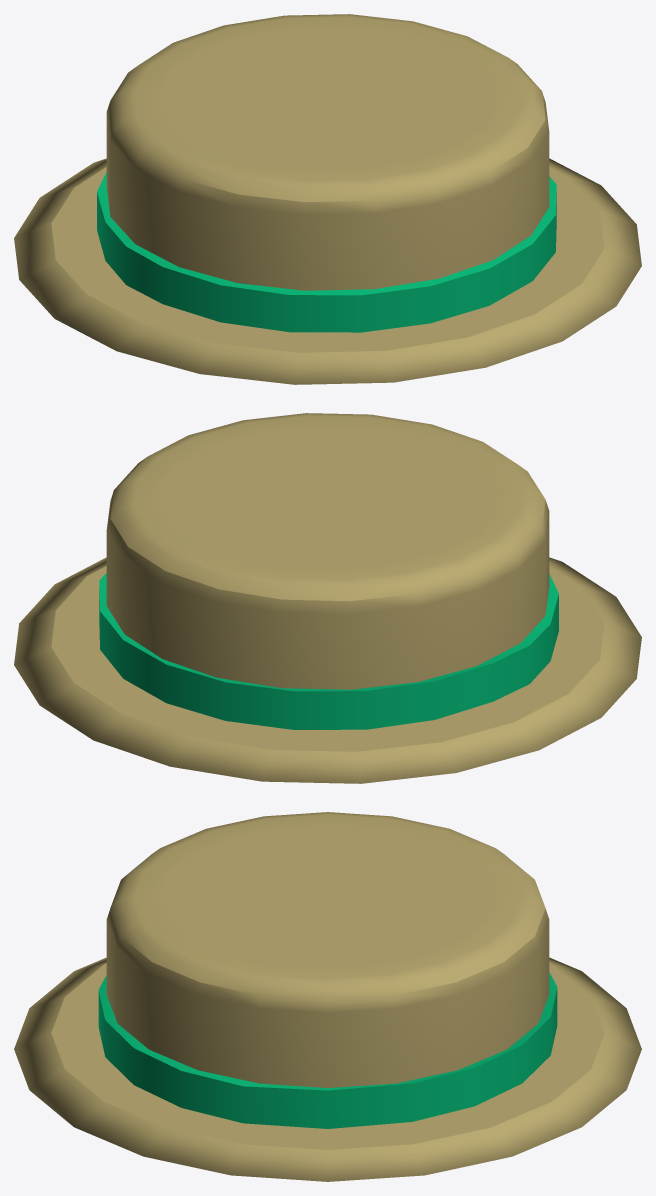
File: flathat.fbx
The picture shows the model from 3 angles, top to bottom: view 1: azimuth 30°, elevation 25°; view 2: azimuth 150°, elevation 25°; view 3: azimuth 270°, elevation 25°; orthographic projection.
Visible parts, largest first — view 1: pCylinder1; view 2: pCylinder1; view 3: pCylinder1.
Boxes of the visible parts, bbox=[...] form: pCylinder1: bbox=[14, 14, 641, 384]; pCylinder1: bbox=[14, 413, 641, 783]; pCylinder1: bbox=[14, 812, 641, 1181].
Bounding box in the file's own units: 197 × 58.17 × 197.
